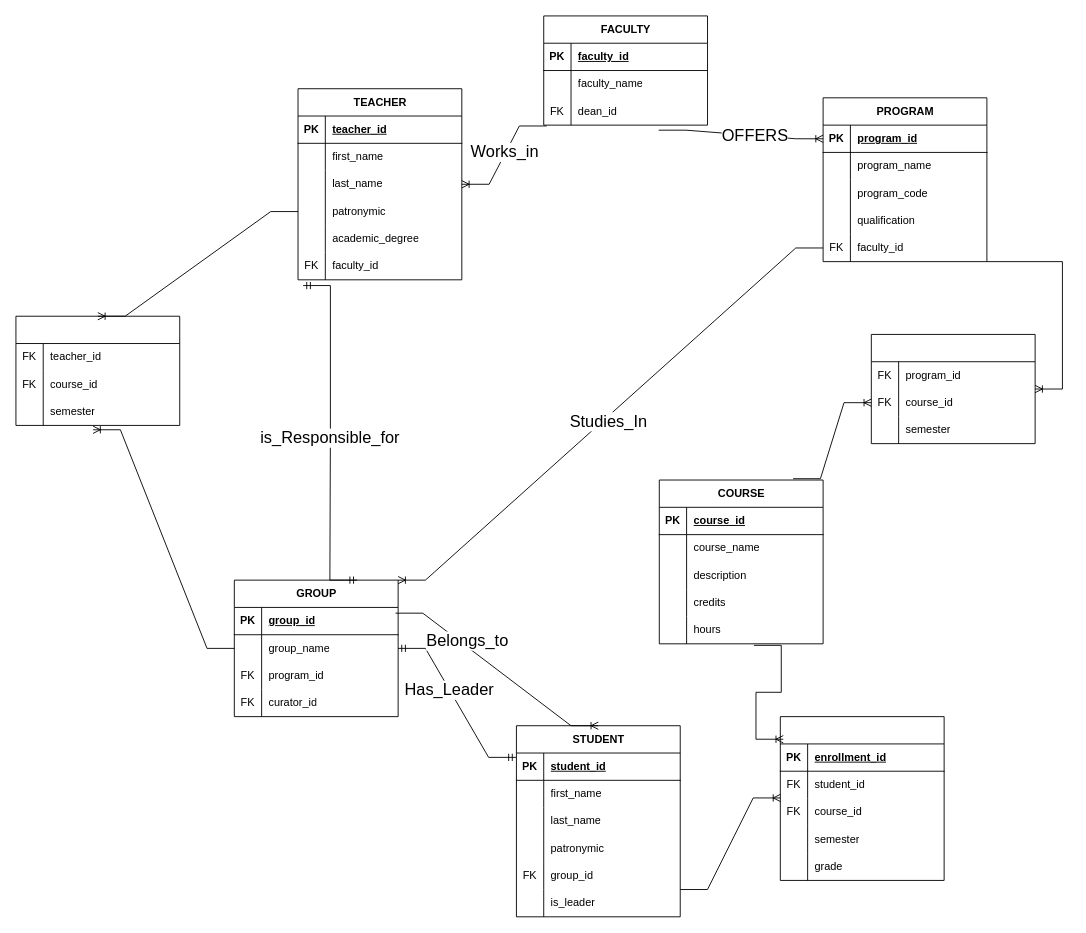
Image size: 1086x933. Some labels were removed from this diagram. The shapes that lost their labels are listed below. From the top down, each one's box as (x1, y1, x2, y2) in pixels, then its label:
(15, 315, 180, 425): teaching_assignments
(870, 334, 1035, 444): program_courses
(779, 716, 944, 880): enrollments
